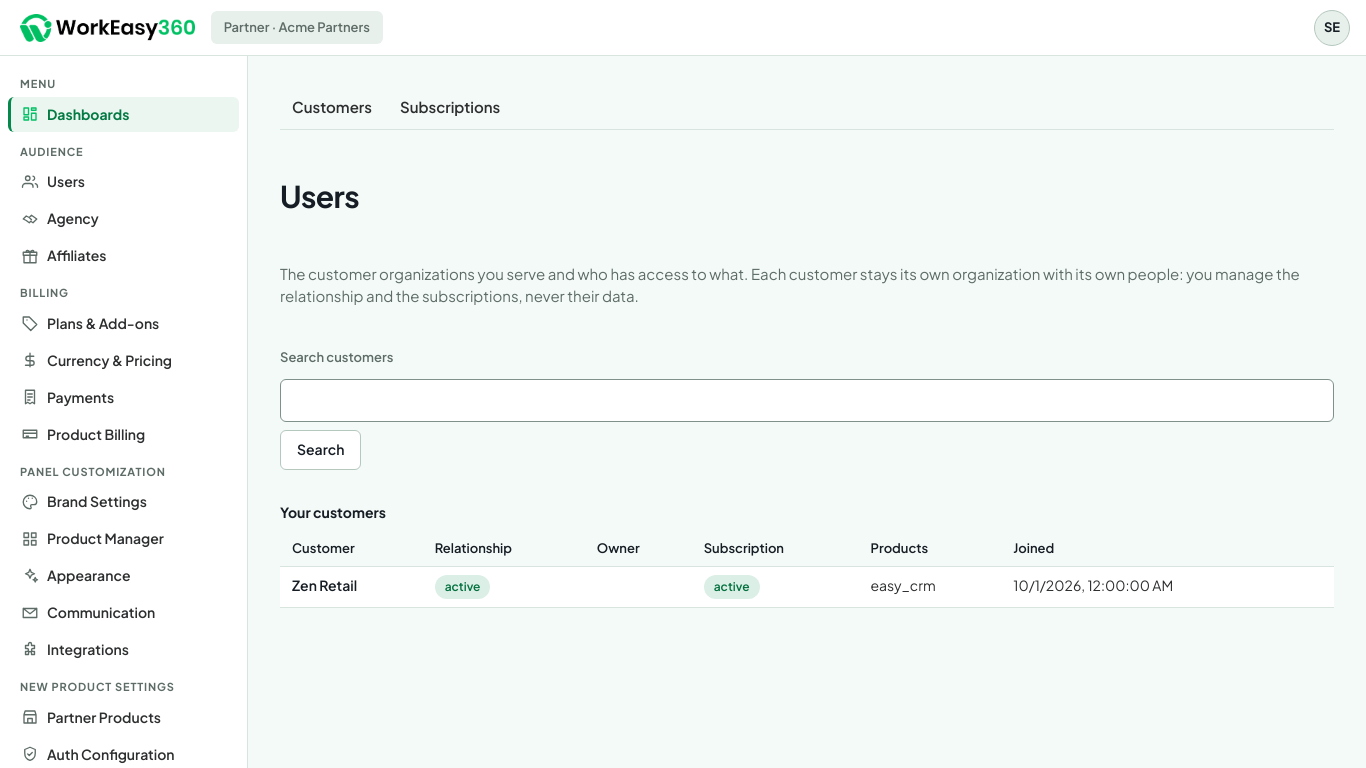
users › searches by name on the server and says when nothing matches
Expected: the heading "Users" is shown, [280,177,359,215]
Expected: the table "Your customers" is shown, [280,494,1334,608]
Type "zen" into the search field labelled "Search customers".
click(807, 400); type("zen")  # box [280,379,1334,422]
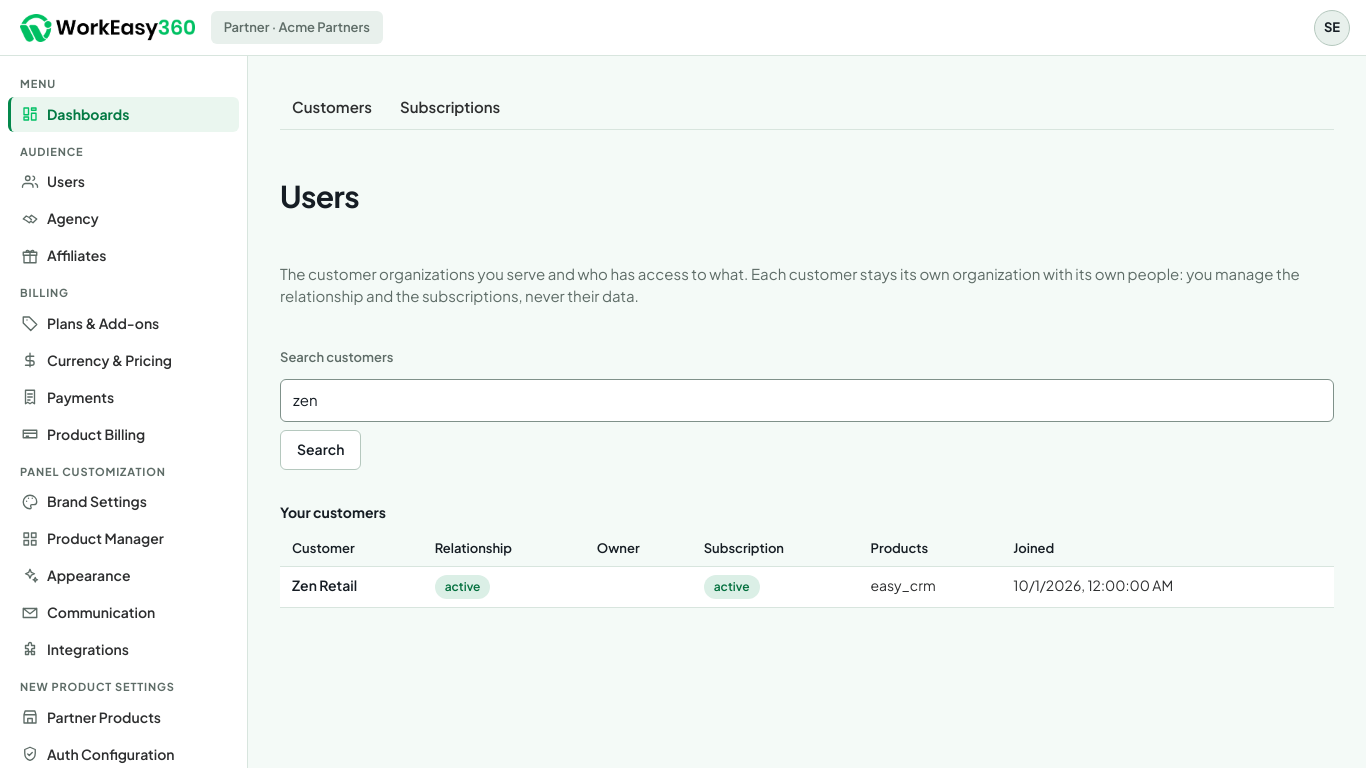
Click the button "Search".
click(321, 450)  # box [280,430,361,470]
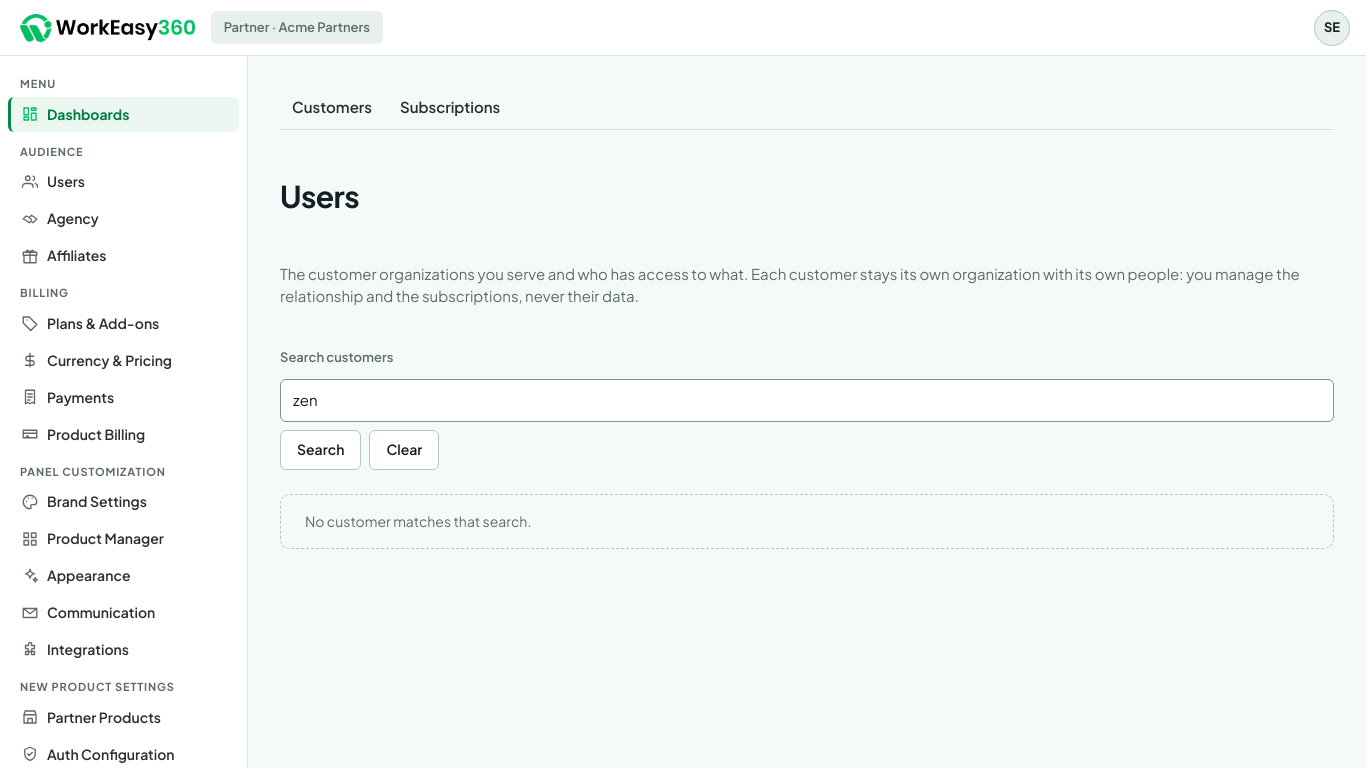
Now the text "No customer matches that search." is shown, box [280,494,1334,549]
